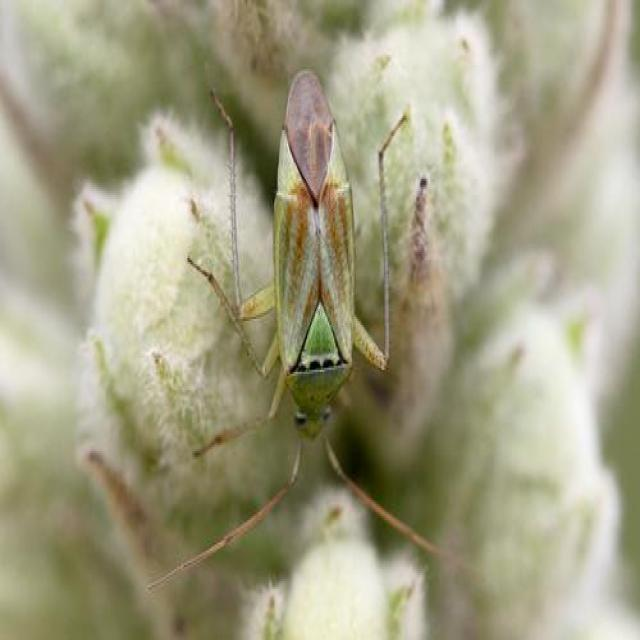Miridae-Adult-: (170, 68, 462, 580)
